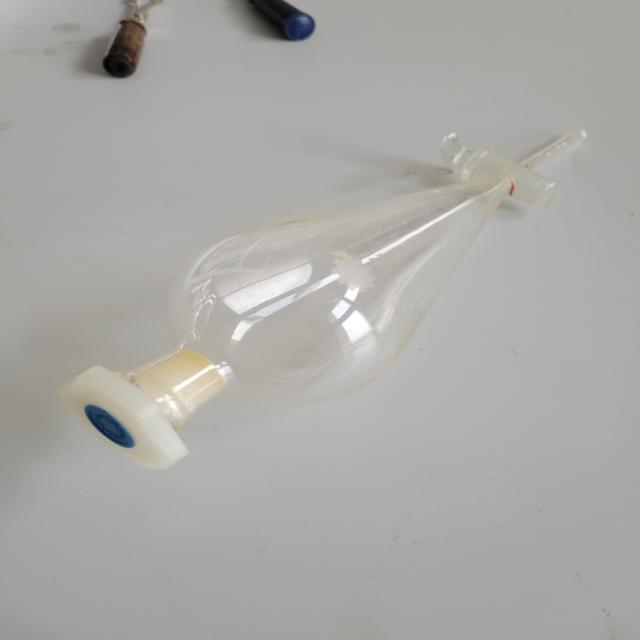Separating_Funnel: (45, 92, 599, 500)
